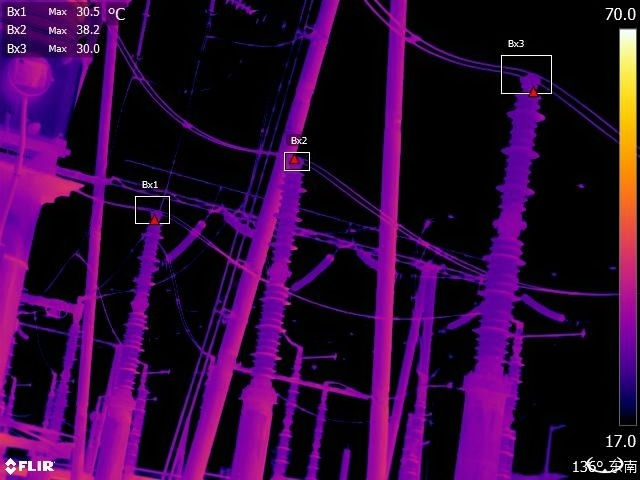insulator: (161, 214, 211, 266), (289, 248, 341, 297), (525, 291, 567, 325), (442, 302, 483, 331)
post insulator: (465, 70, 559, 388), (247, 147, 312, 386), (114, 205, 172, 394), (42, 316, 84, 434)
switch: (13, 290, 85, 319)
